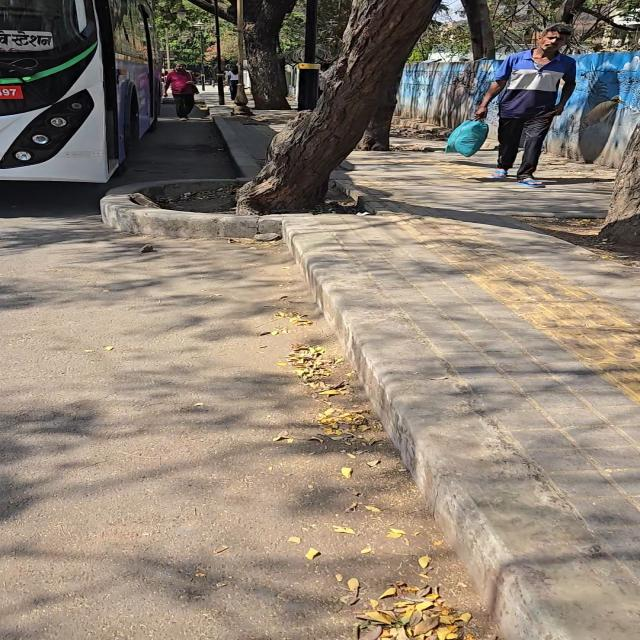obstacle: (476, 23, 575, 187), (299, 0, 319, 110), (233, 0, 252, 115), (164, 63, 195, 120), (214, 0, 224, 104), (228, 65, 239, 100), (319, 62, 330, 96), (200, 29, 205, 91), (165, 28, 170, 72)
